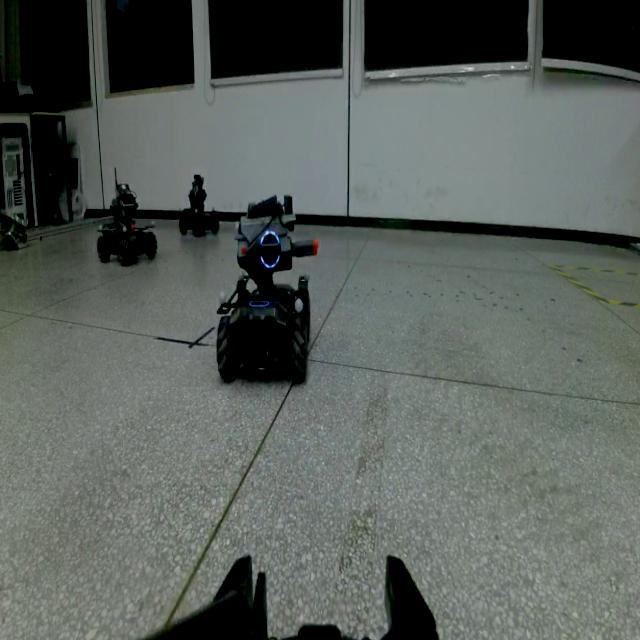s1: (210, 193, 324, 389), (94, 164, 156, 266), (178, 165, 219, 246)
